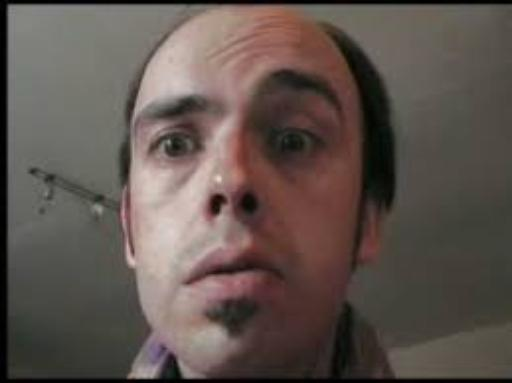left_eye: (270, 134, 326, 158)
left_lip_corner: (268, 263, 289, 285)
right_eye: (149, 134, 203, 161)
right_lip_corner: (177, 274, 200, 293)
